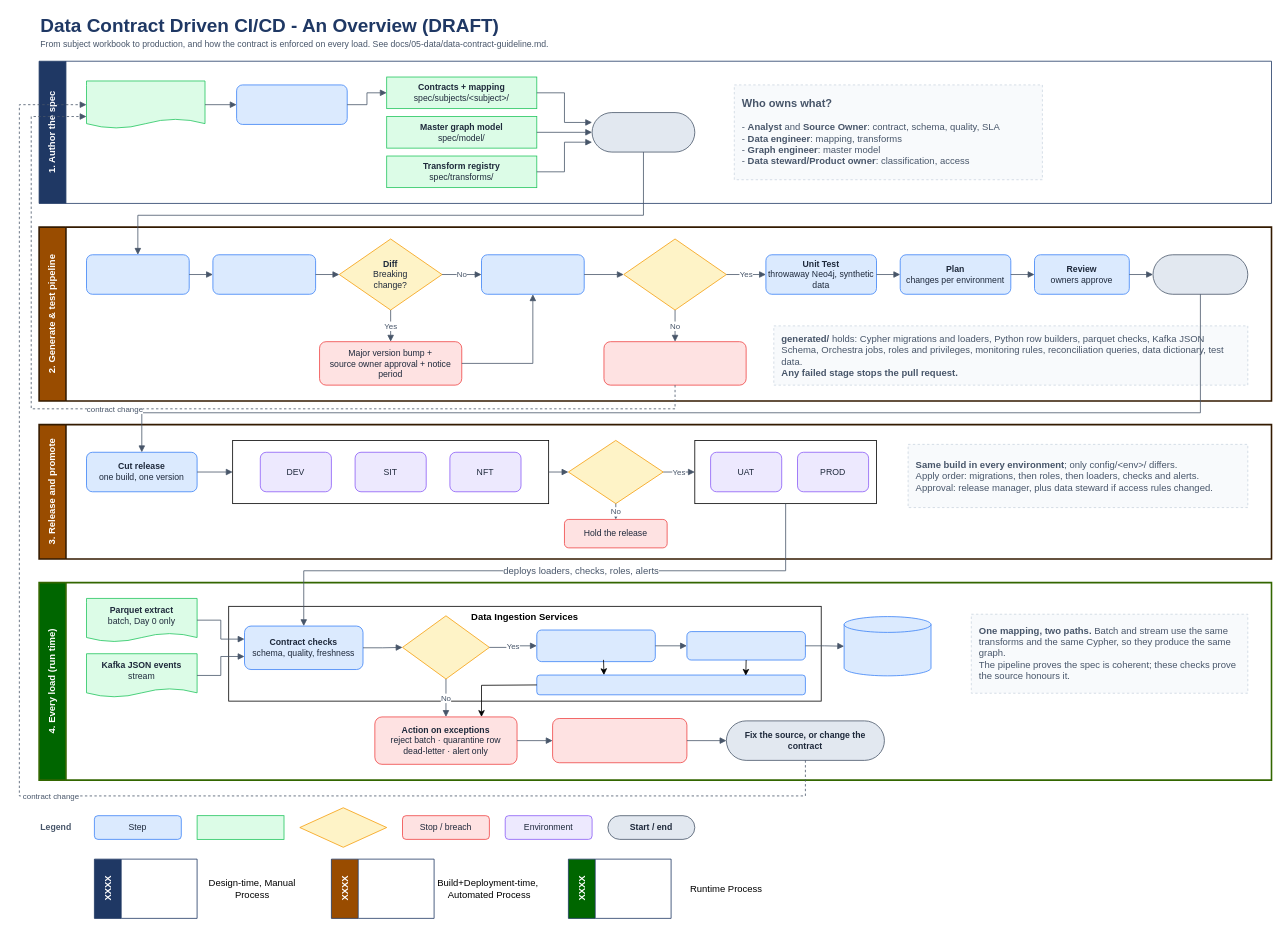
The diagram is 1286 pixels wide and 932 high, and some of its shapes have lost their labels. Here are the shapes that lost their labels. From the top down, the centre of each, then its label:
At [145,104]: "Data Contract Template Excel, one per source".
At [291,104]: "Import".
At [643,132]: "Pull request".
At [137,274]: "Validate schemas, references".
At [264,274]: "Verify guideline rules".
At [532,274]: "Generate into generated/".
At [674,274]: "Matches committed generated/?".
At [1200,274]: "Merge to main".
At [674,363]: "Fix the spec or the generator. Never edit generated/ by hand.".
At [615,472]: "Approved?".
At [445,647]: "Pass?".
At [595,645]: "Transform".
At [745,645]: "Execute".
At [887,646]: "Neo4j graph".
At [670,684]: "Auditing Logs".
At [619,740]: "Report to source owner rule, count, sample keys".
At [240,827]: "Spec file".
At [343,827]: "Decision".
